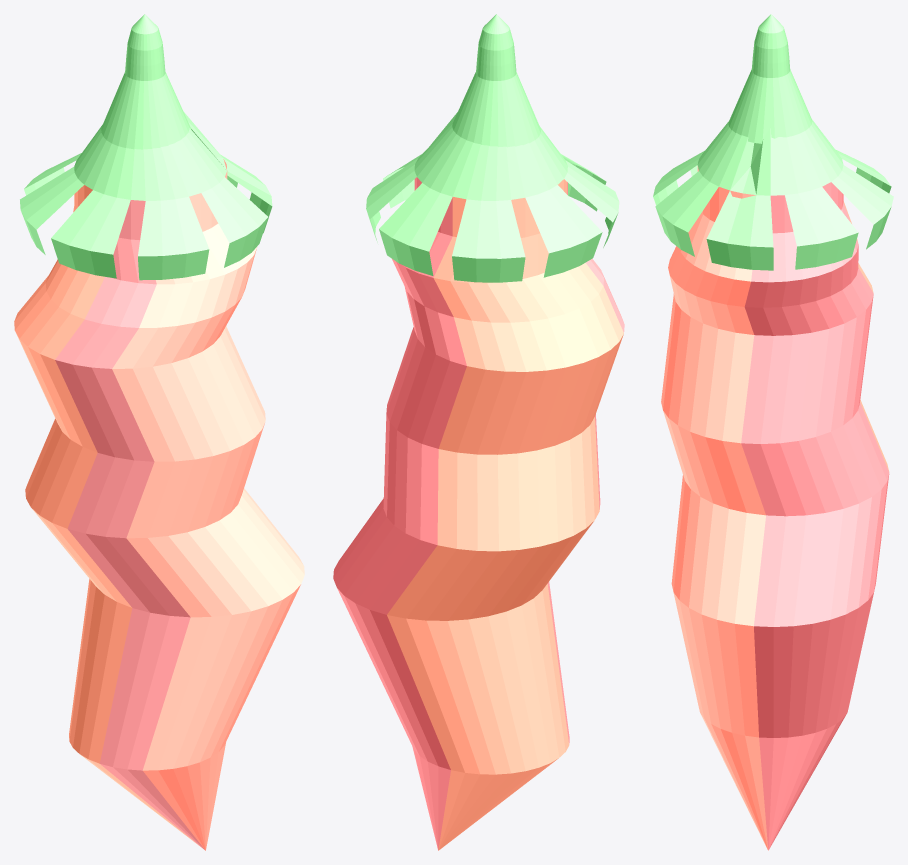
The model's file is dragonpepper.fbx.
The picture shows the model from 3 angles, left to right: view 1: azimuth 30°, elevation 25°; view 2: azimuth 150°, elevation 25°; view 3: azimuth 270°, elevation 25°; orthographic projection. The views are drawn at different scales.
Visible parts, largest first — view 1: Cylinder, Cylinder.001; view 2: Cylinder, Cylinder.001; view 3: Cylinder, Cylinder.001.
Boxes of the visible parts, x1=… form: Cylinder: x1=14, y1=159, x2=304, y2=850; Cylinder.001: x1=20, y1=14, x2=272, y2=280; Cylinder: x1=333, y1=177, x2=624, y2=850; Cylinder.001: x1=366, y1=14, x2=619, y2=282; Cylinder: x1=661, y1=166, x2=889, y2=850; Cylinder.001: x1=653, y1=14, x2=893, y2=270.
Bounding box in the file's own units: 99.53 × 308 × 83.05.
